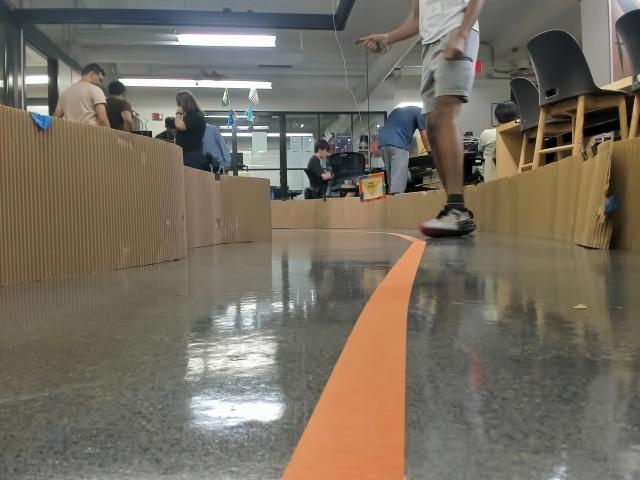Do Not Yield: (363, 180, 380, 195)
